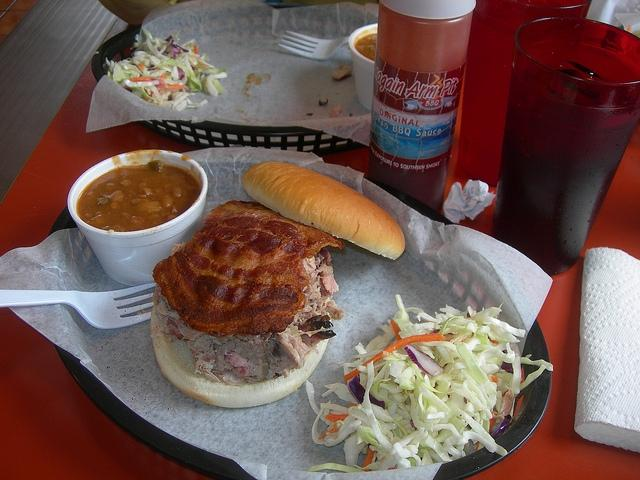carrot: (343, 334, 445, 380), (318, 421, 338, 440), (362, 448, 376, 472), (512, 395, 524, 419), (390, 320, 402, 342), (324, 413, 350, 422), (489, 412, 498, 432), (162, 84, 184, 90), (130, 77, 152, 82), (138, 64, 144, 72), (492, 376, 498, 383), (194, 44, 198, 54), (349, 402, 357, 406)
